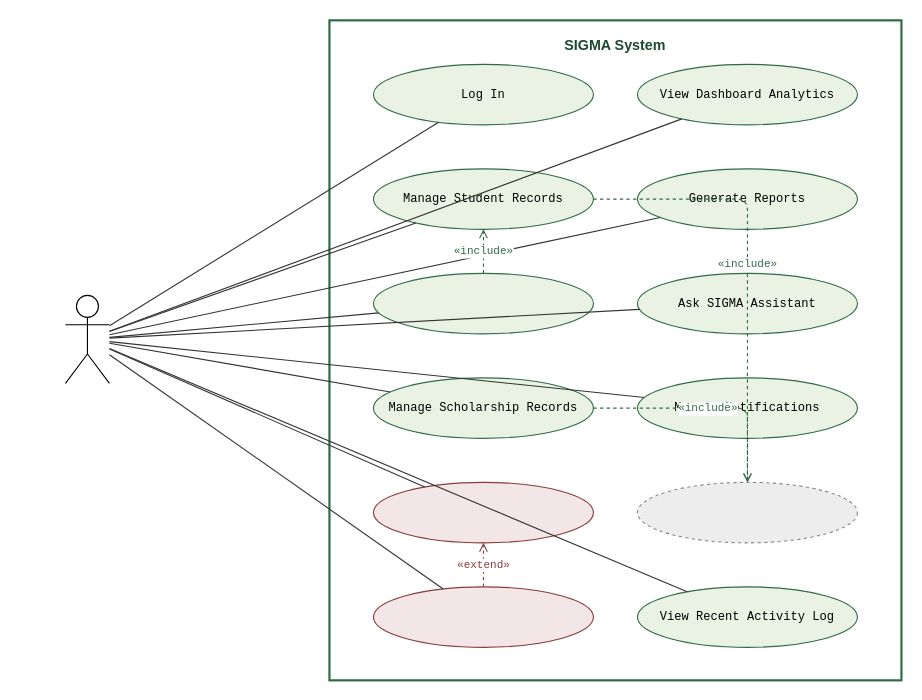
This 922x700 diagram has some shape labels left out. The centre of each missing label's shape, as x and y in pixels:
Admin (Admissions Staff / Office Head): point (86, 338)
Detect Duplicate Scholarship (automatic): point (746, 512)
Import Students from File: point (482, 303)
Resolve Duplicate Flag: point (482, 616)
View Duplicate Flags: point (482, 512)
